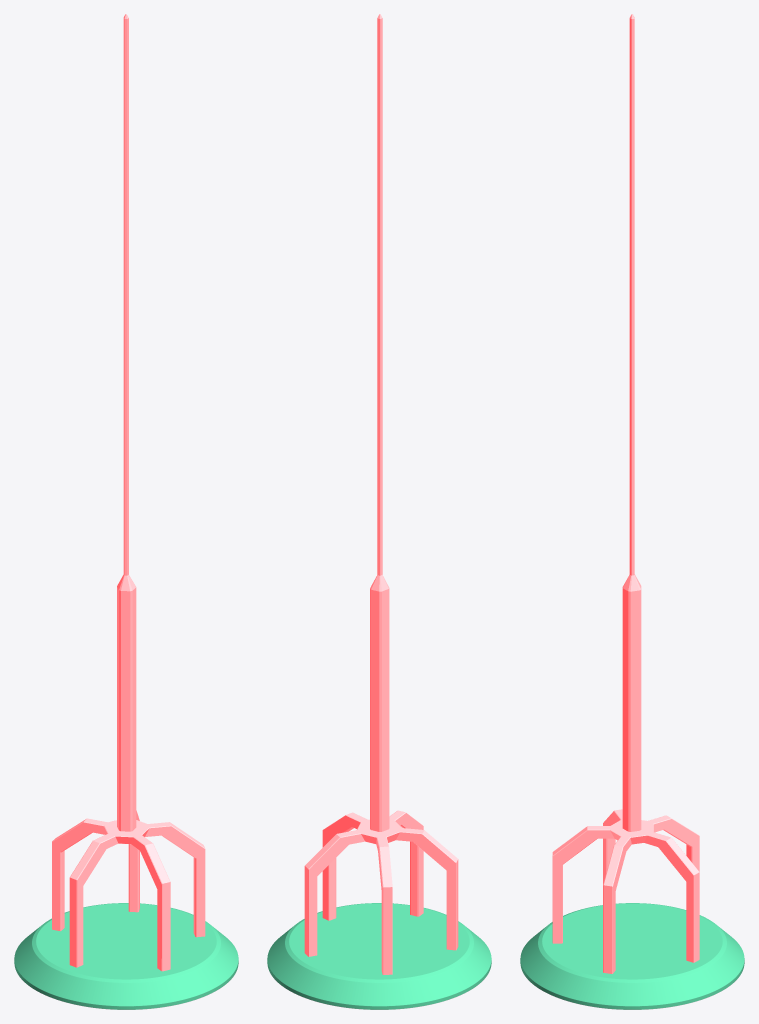
The model's file is tour_top.fbx.
3 renders of one model, left to right at view 1: azimuth 30°, elevation 25°; view 2: azimuth 150°, elevation 25°; view 3: azimuth 270°, elevation 25°, orthographic.
Parts seen in each view (by area): view 1: Antenna.003, Tour.004; view 2: Antenna.003, Tour.004; view 3: Tour.004, Antenna.003.
Part boxes in pixels (bbox=[...]): Antenna.003: bbox=[52, 14, 205, 971]; Tour.004: bbox=[14, 903, 238, 1009]; Antenna.003: bbox=[304, 14, 458, 974]; Tour.004: bbox=[267, 903, 491, 1009]; Tour.004: bbox=[520, 903, 744, 1009]; Antenna.003: bbox=[552, 14, 699, 973].
Bounding box in the file's own units: 1099 × 5129 × 1099.
